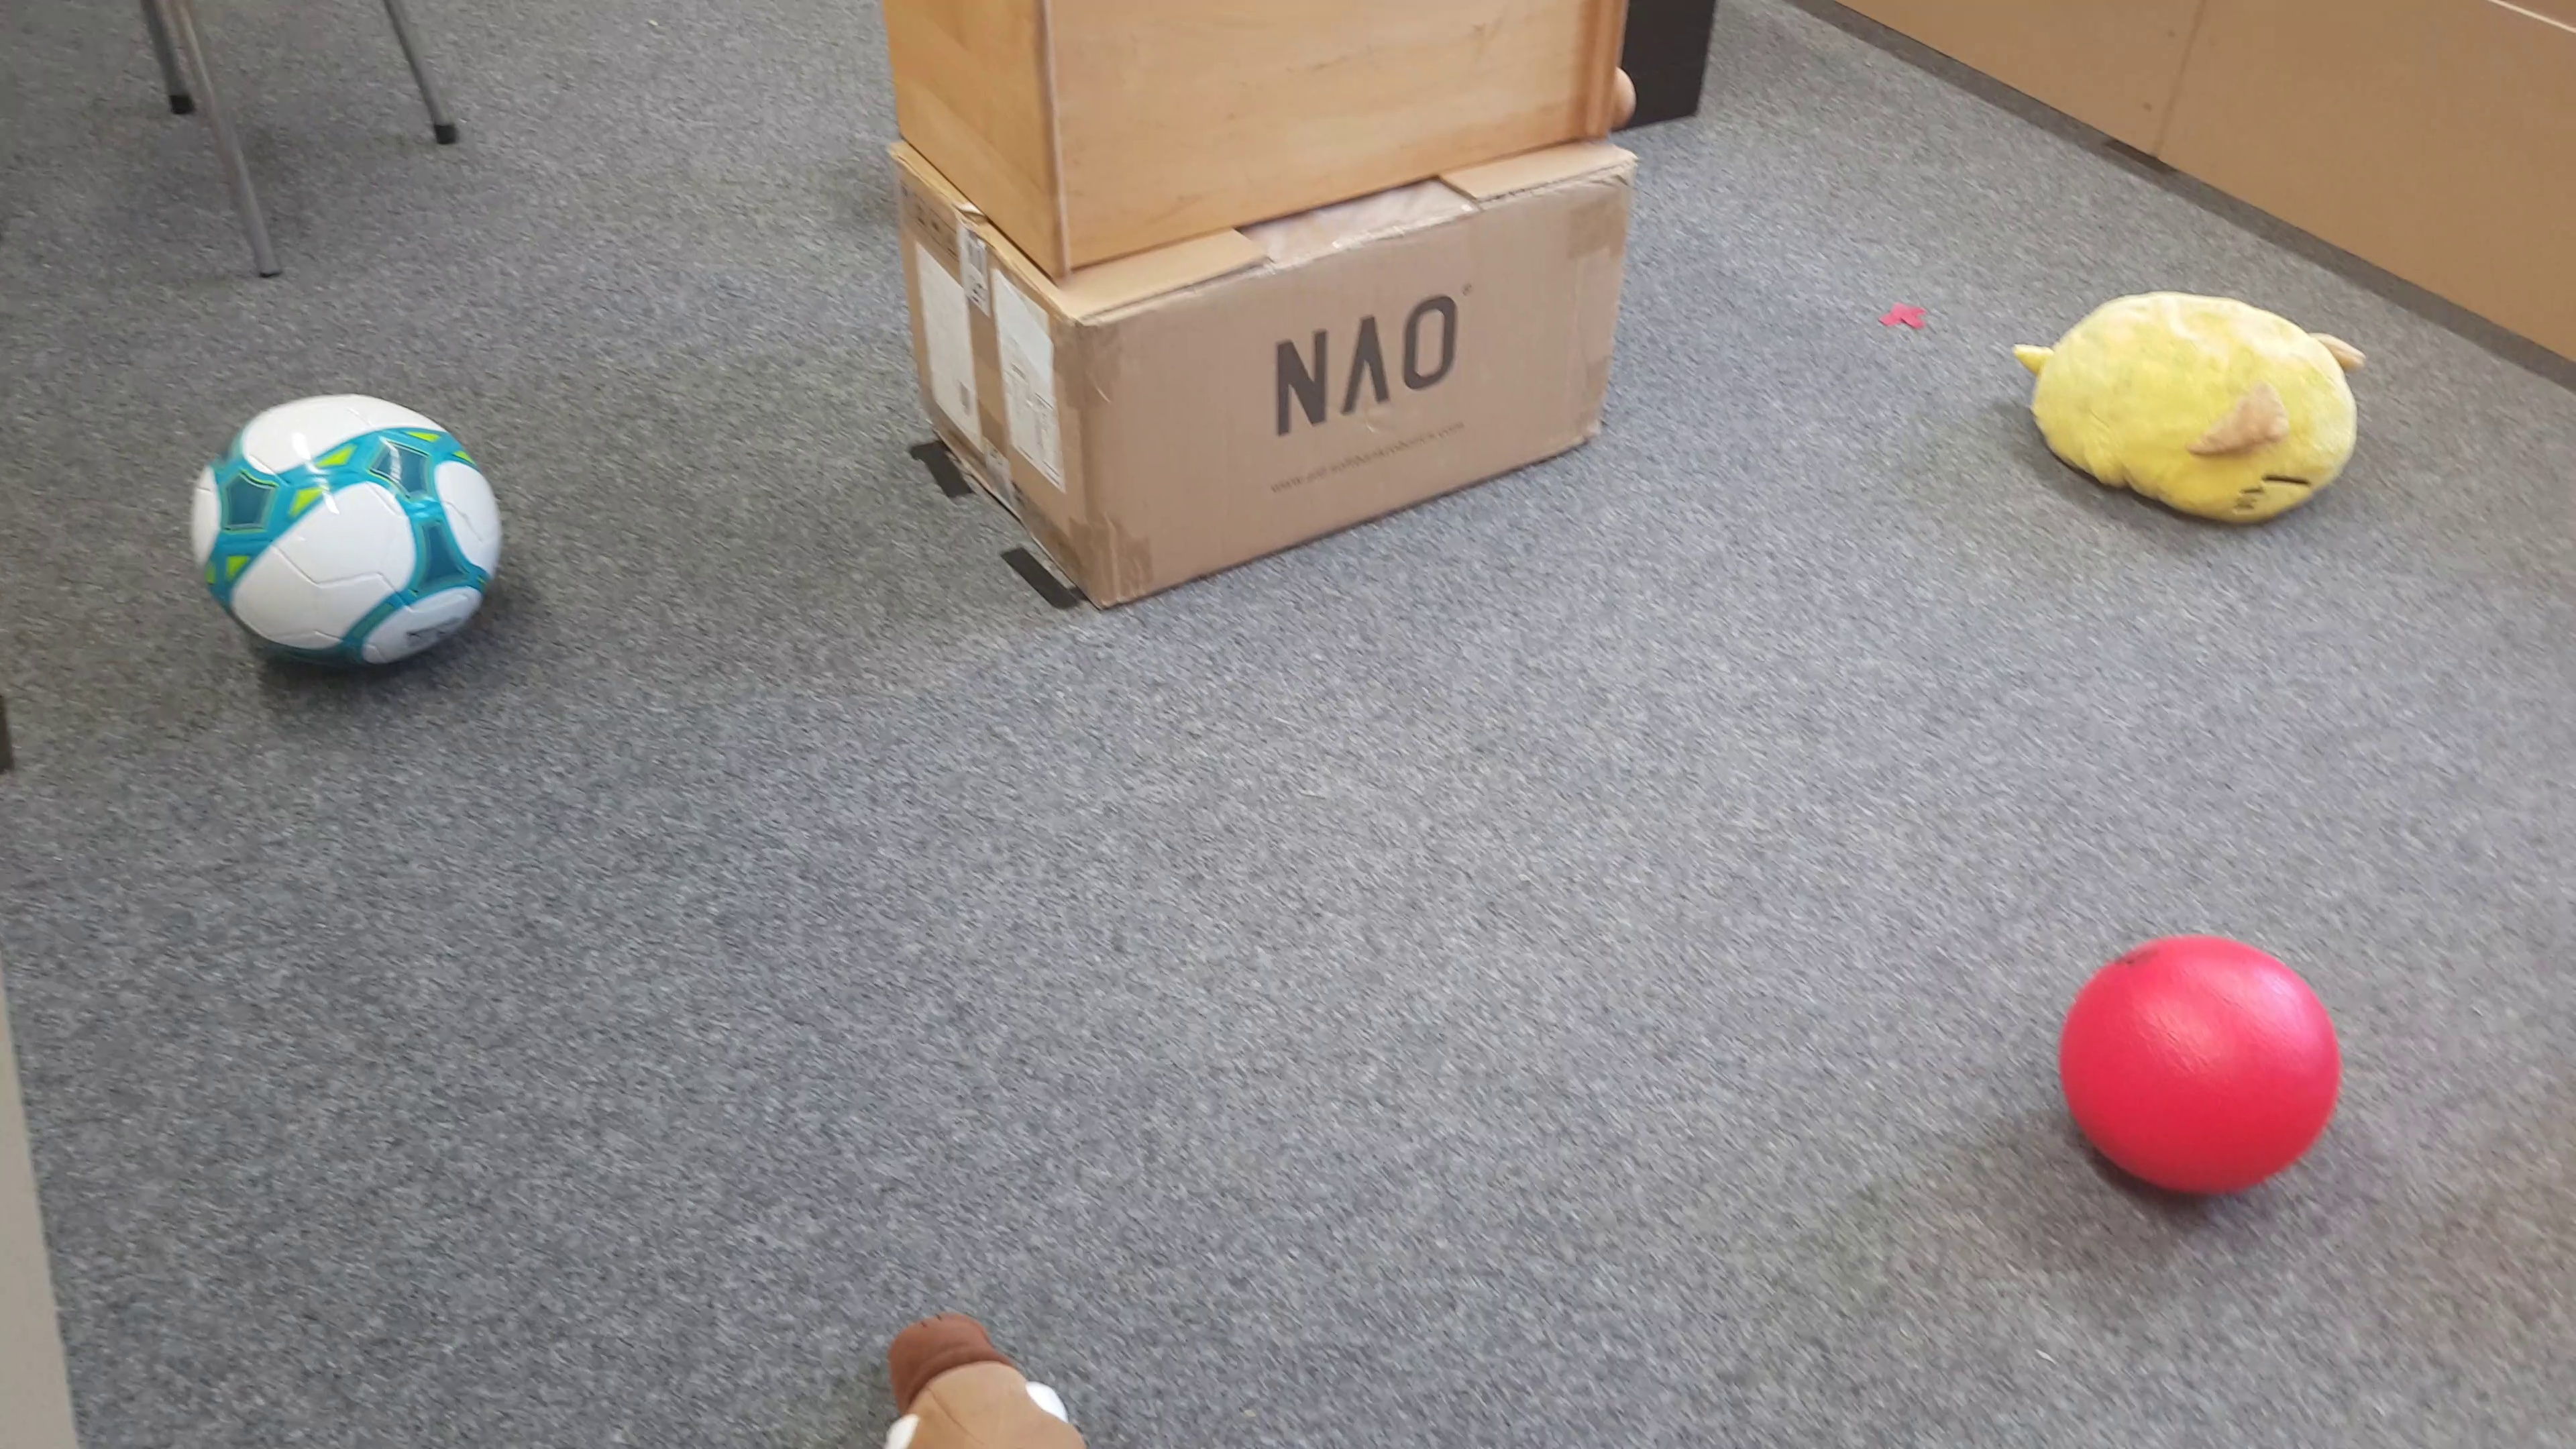grasp: (2006, 288, 2362, 525), (851, 1315, 1081, 1449)
kick: (186, 391, 499, 672), (2058, 931, 2341, 1203)
